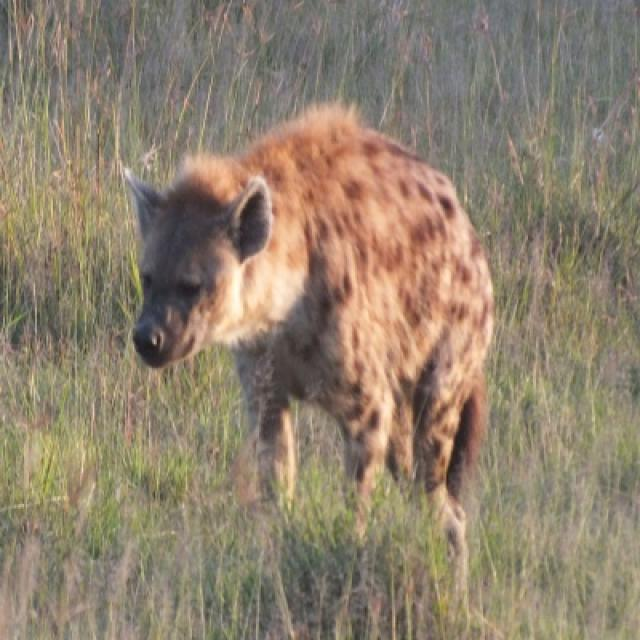hyena: (125, 104, 493, 558)
